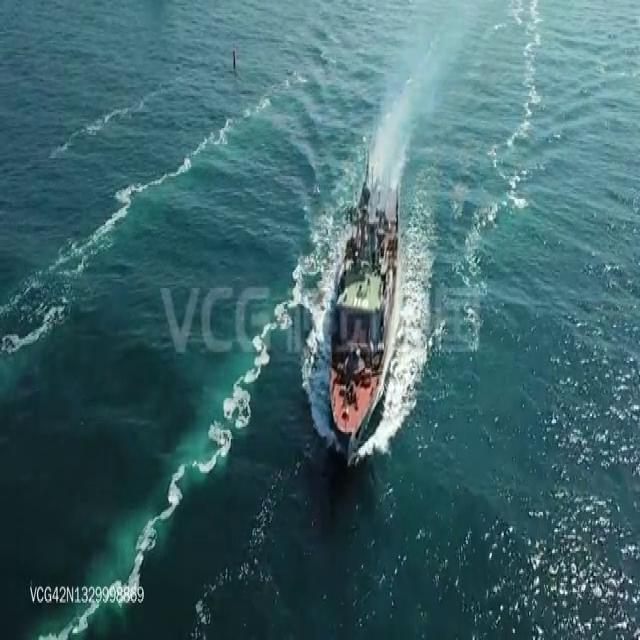navalvessels: (328, 146, 401, 448)
